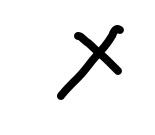mult: (57, 24, 125, 101)
